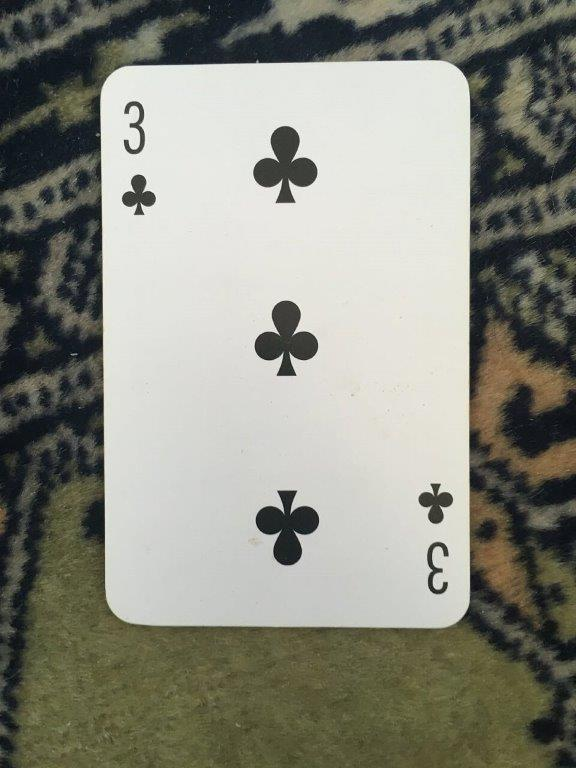3C: (96, 58, 477, 634)
